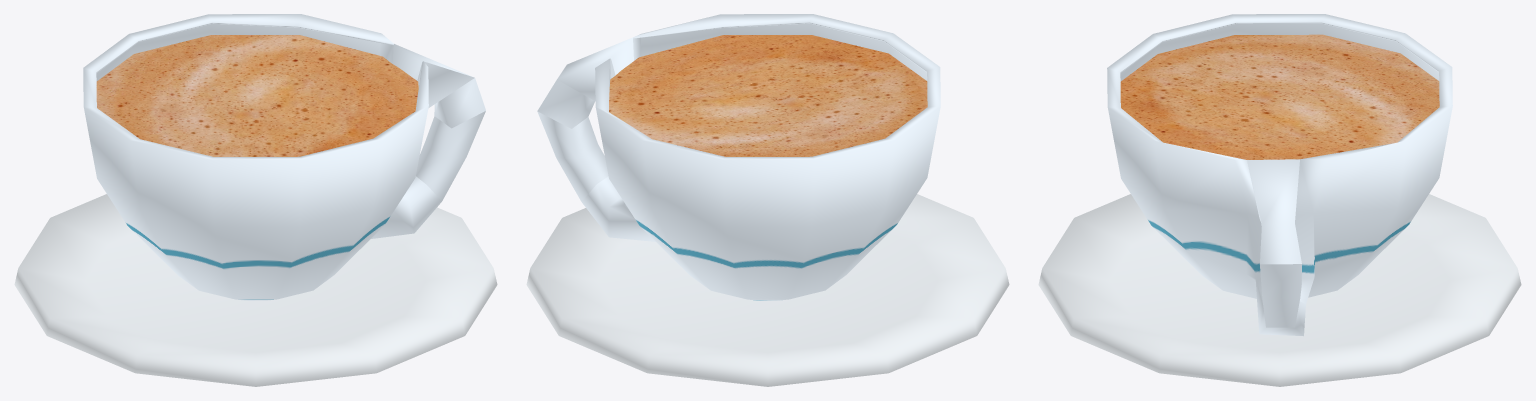
Rendered from taza de cade.glb.
3 views of the same model, side by side, from view 1: azimuth 30°, elevation 25°; view 2: azimuth 150°, elevation 25°; view 3: azimuth 270°, elevation 25° (orthographic).
Parts seen in each view (by area): view 1: taza de cafe; view 2: taza de cafe; view 3: taza de cafe.
Boxes of the visible parts, bbox=[...] form: taza de cafe: bbox=[14, 14, 497, 386]; taza de cafe: bbox=[526, 14, 1009, 386]; taza de cafe: bbox=[1038, 14, 1521, 386].
Bounding box in the file's own units: 2.61 × 1.28 × 2.55.
Materials: 3 (3 with a texture image).
